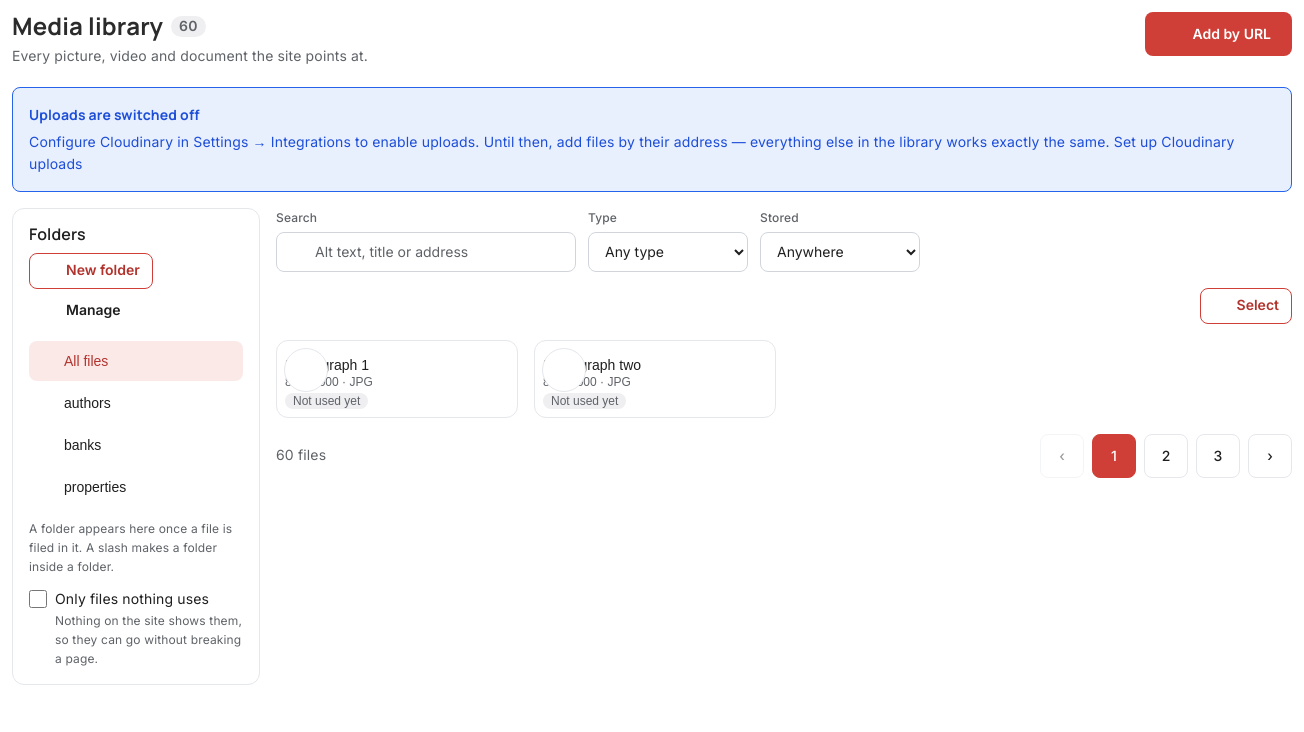
Test: a request that fails, or is slow › shows the error instead of the last answer, with no count and no pages
Expected: the text "Photograph 1" is shown, [285,356,373,372]
Expected: the text "60 files" is shown, [276,444,326,467]
Select "Document" in the dropdown labelled "Type" at x=668, y=252, box [588,232,748,272]
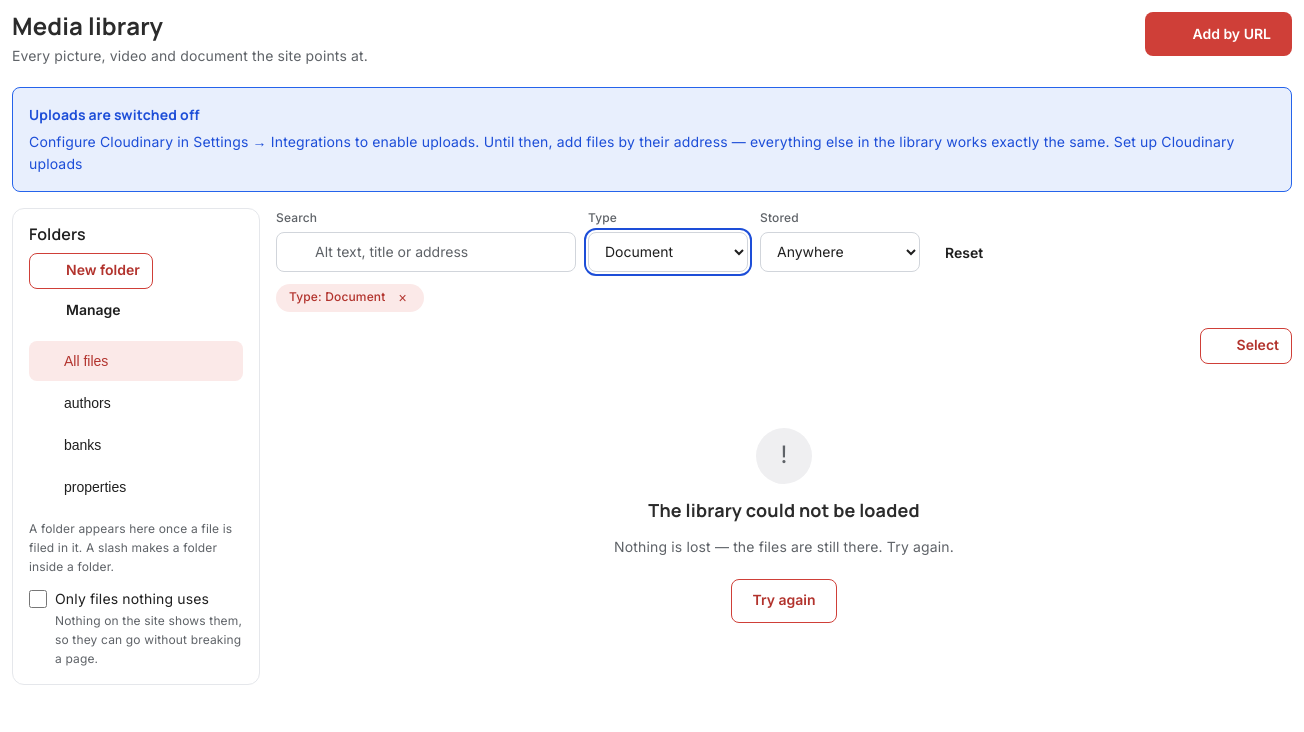
Expected: the text "The library could not be loaded" is shown, [648,496,920,524]
Expected: the button "Photograph 1" is gone
Expected: the text "60 files" is gone
Click the button "Try again" at x=784, y=601, box [732,579,837,623]
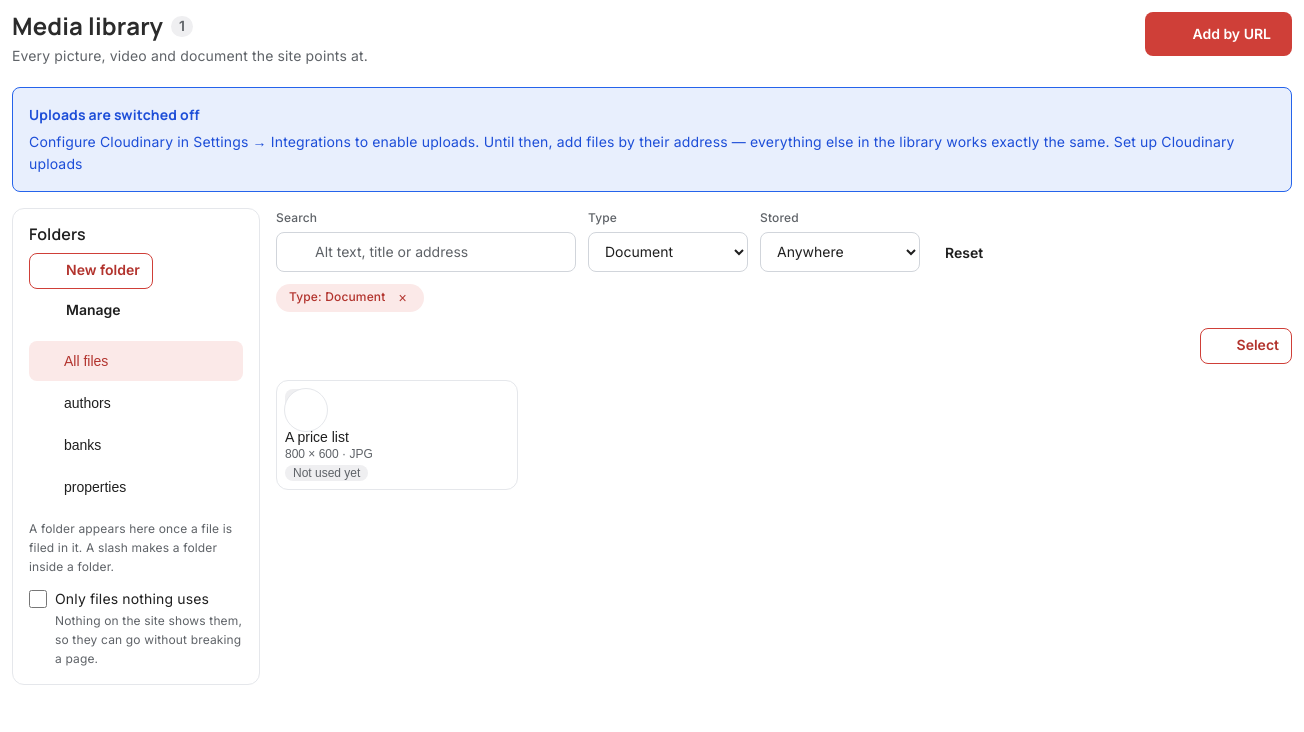
Expected: the text "A price list" is shown, [285,428,349,444]
